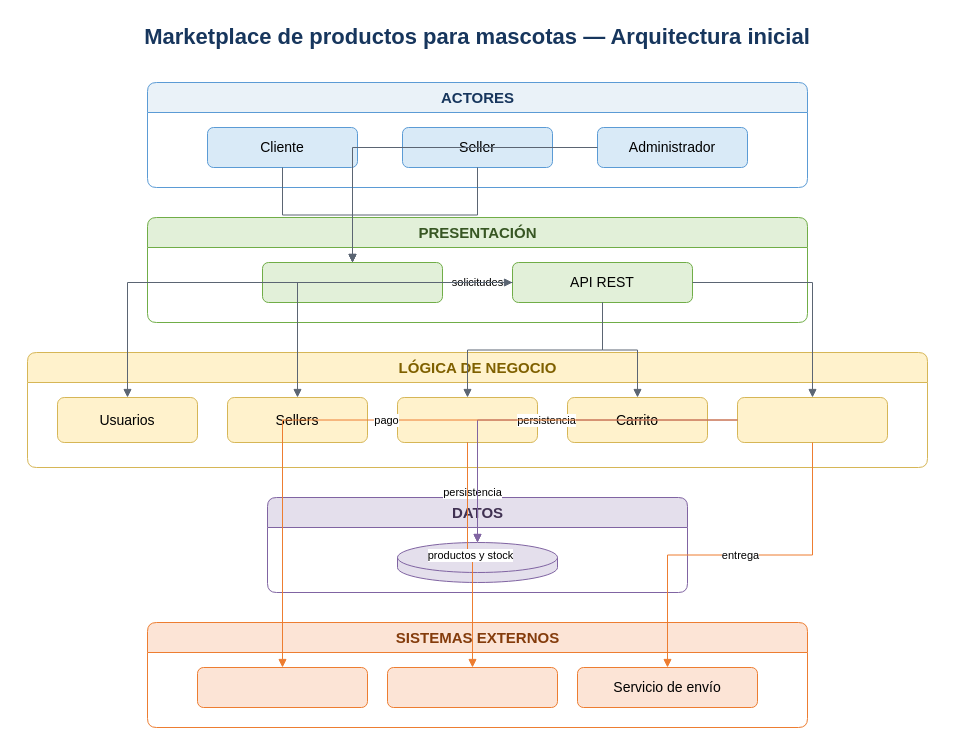
This 954x745 diagram has some shape labels left out. The centre of each missing label's shape, as x and y in pixels:
"Aplicación Web" goes at point 352,282.
"Base de datos" goes at point 477,562.
"Catálogo" goes at point 467,419.
"ERP" goes at point 472,687.
"Pasarela de pago" goes at point 282,687.
"Pedidos" goes at point 812,419.
